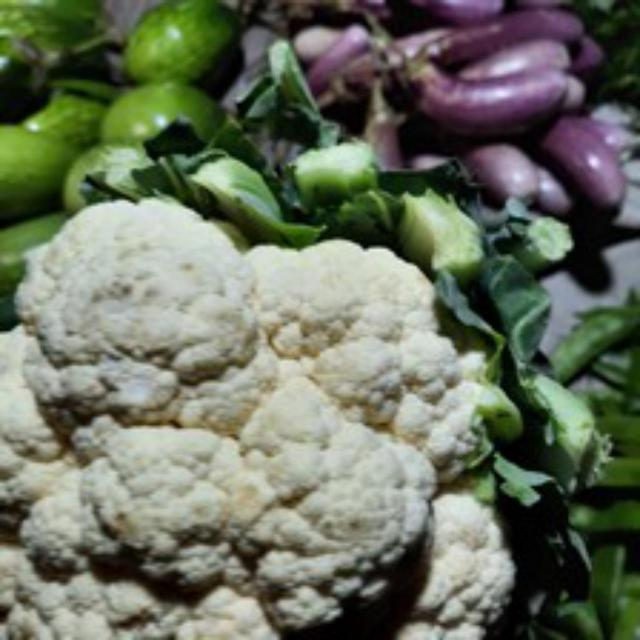cauliflower: (0, 194, 526, 637)
